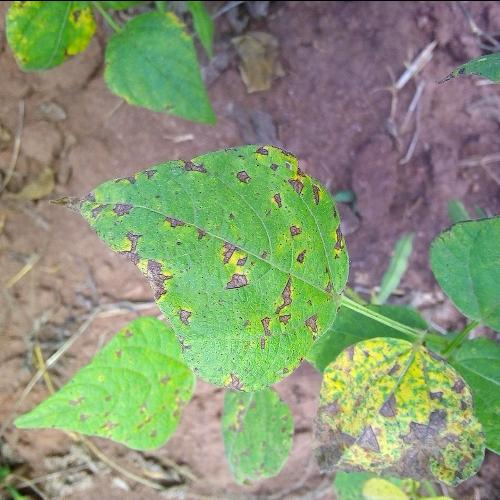hawar: (45, 156, 353, 376)
